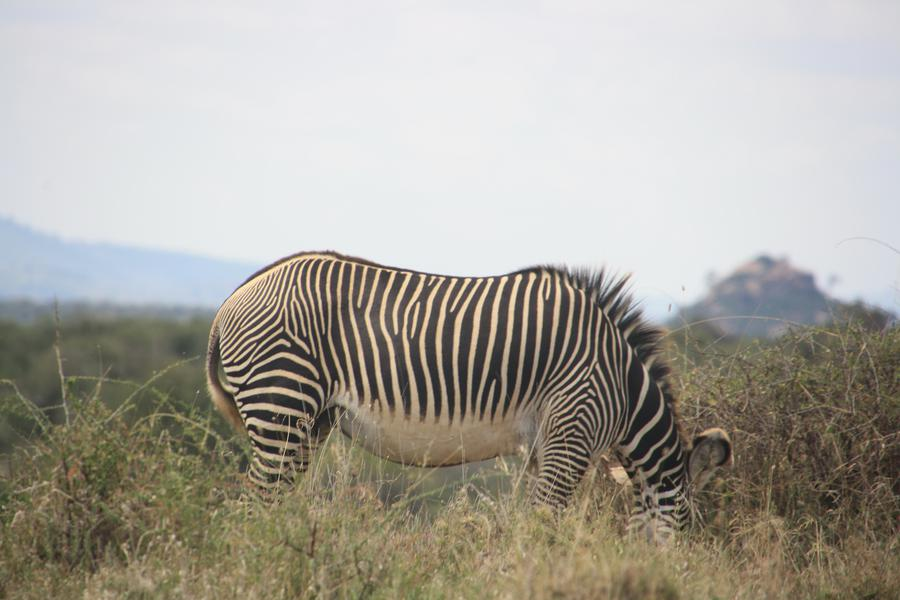zebra_grevys: (201, 229, 599, 469)
